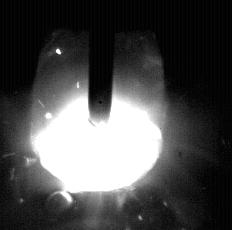arame: (89, 0, 113, 126)
poca: (31, 0, 164, 230)
